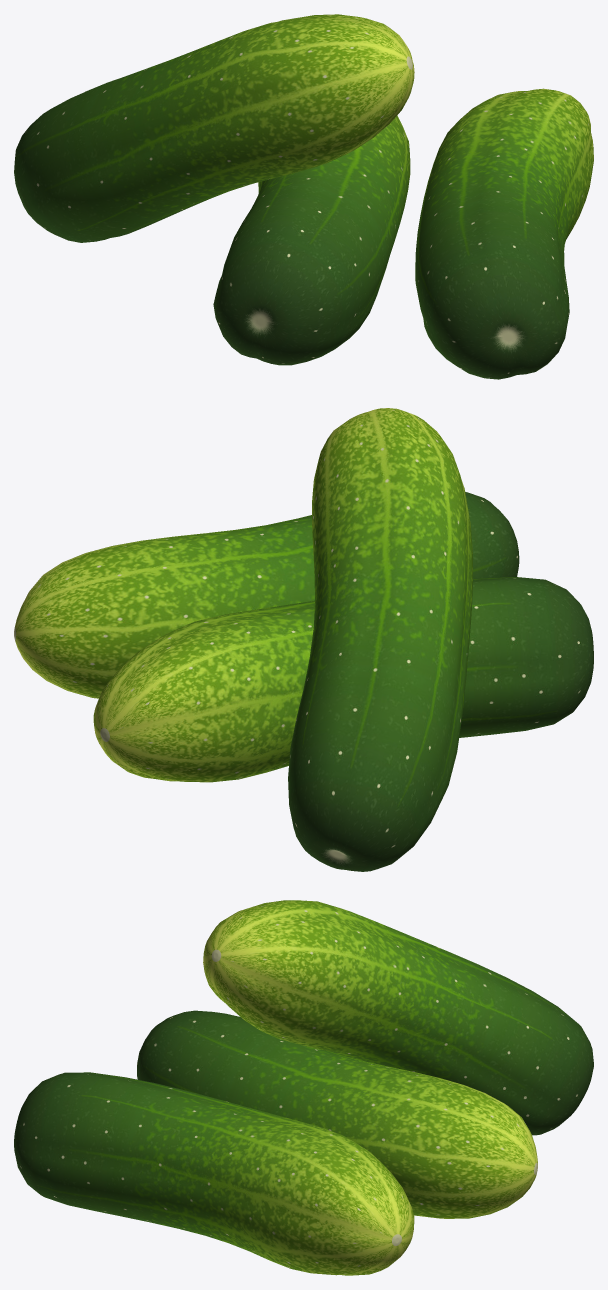
The model's file is Bodring.fbx.
3 renders of one model, top to bottom at view 1: azimuth 30°, elevation 25°; view 2: azimuth 150°, elevation 25°; view 3: azimuth 270°, elevation 25°, orthographic. The views are drawn at different scales.
Visible parts, largest first — view 1: Open3DModel (1); view 2: Open3DModel (1); view 3: Open3DModel (1).
Boxes of the visible parts, x1,y1,x2,y2 form: Open3DModel (1): (14, 14, 593, 379); Open3DModel (1): (14, 408, 593, 871); Open3DModel (1): (14, 900, 593, 1275).
Size of the model in its own units: 389 by 234 by 457.
1 material, 1 textured.
